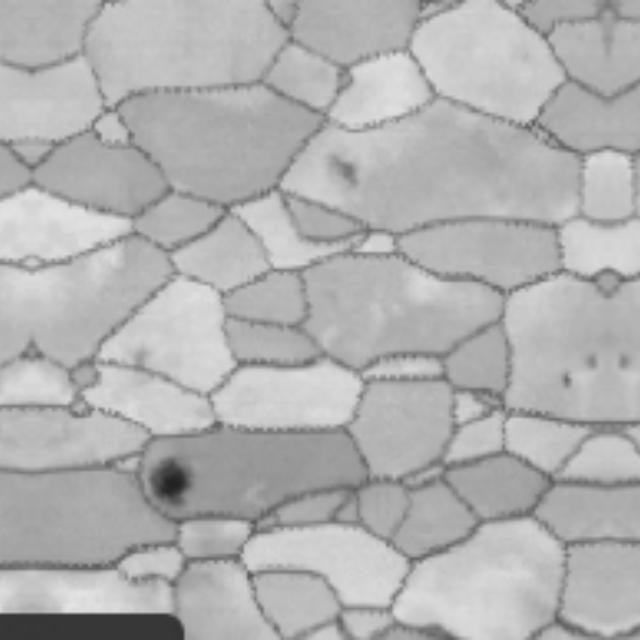good_void: (150, 453, 204, 513), (321, 151, 362, 186), (126, 343, 151, 366), (561, 368, 575, 391), (586, 351, 600, 371), (618, 351, 632, 371)
